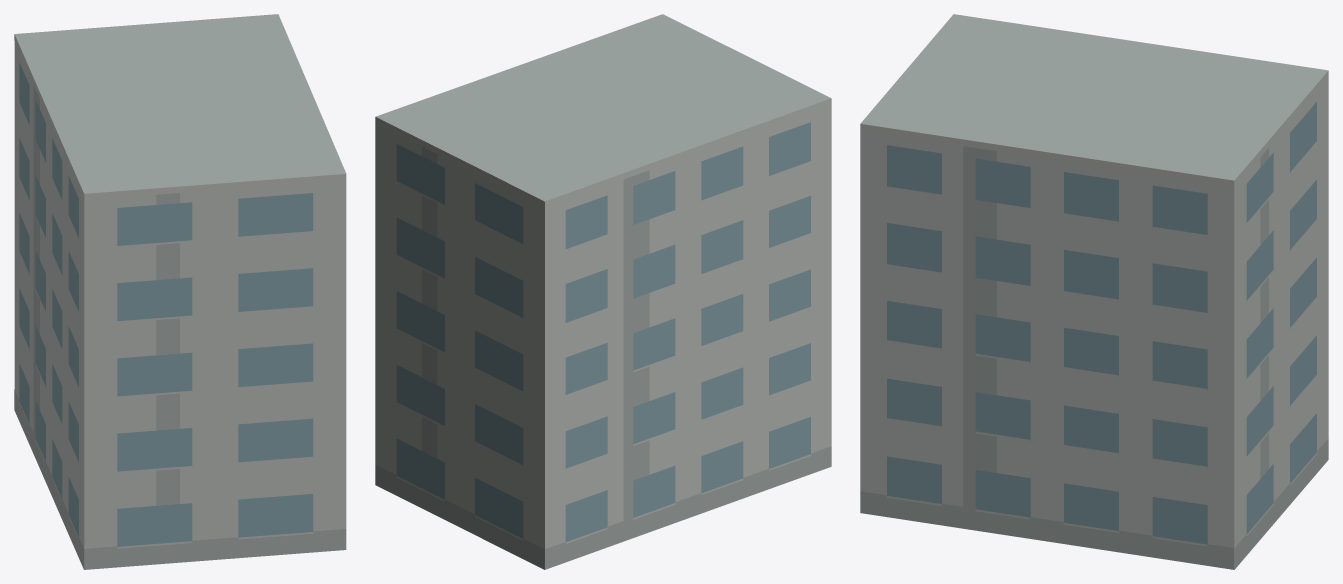
The model's file is survey-upis-32987256.glb.
3 views of the same model, side by side, from view 1: azimuth 30°, elevation 25°; view 2: azimuth 150°, elevation 25°; view 3: azimuth 270°, elevation 25° (orthographic). The views are drawn at different scales.
Parts seen in each view (by area): view 1: survey-upis-32987256.tmp; view 2: survey-upis-32987256.tmp; view 3: survey-upis-32987256.tmp.
Boxes of the visible parts, <box> form: survey-upis-32987256.tmp: <box>14,14,346,569</box>; survey-upis-32987256.tmp: <box>375,14,831,569</box>; survey-upis-32987256.tmp: <box>860,14,1328,569</box>.
Size of the model in its own units: 12.95 by 14.1 by 15.38.
